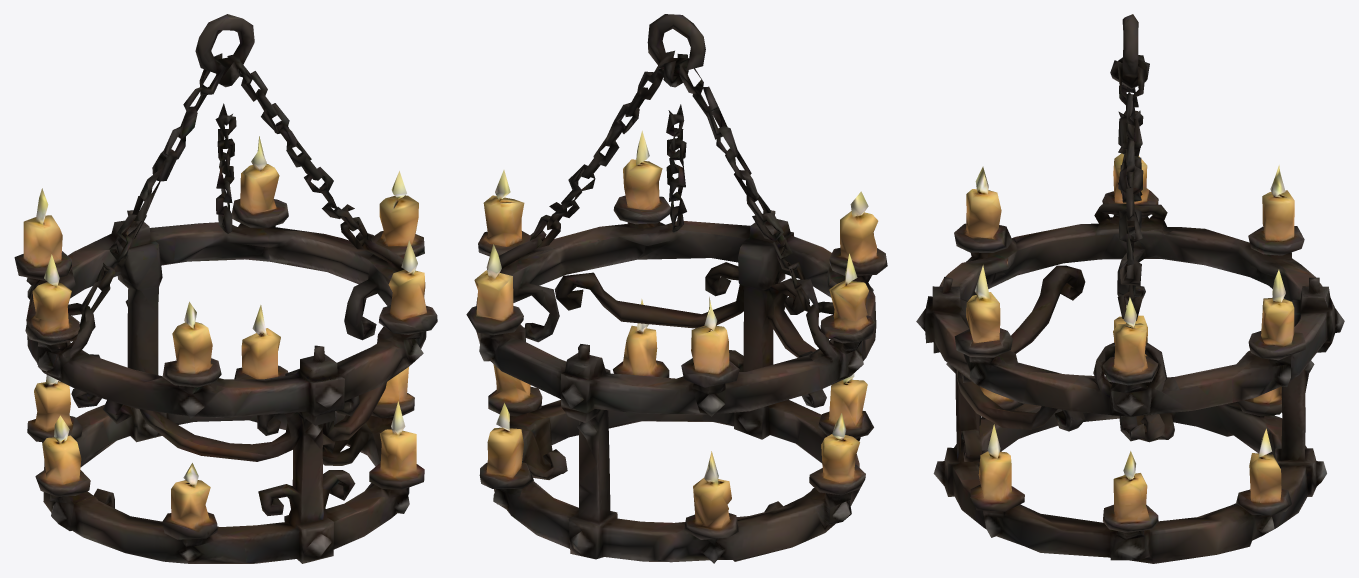
File: chandelier.glb
3 views of the same model, side by side, from view 1: azimuth 30°, elevation 25°; view 2: azimuth 150°, elevation 25°; view 3: azimuth 270°, elevation 25° (orthographic).
Visible parts, largest first — view 1: chandelier; view 2: chandelier; view 3: chandelier.
Part boxes in pixels (x1,y1,x2,y2): chandelier: (14, 14, 437, 563); chandelier: (466, 14, 887, 563); chandelier: (916, 14, 1344, 563).
Bounding box in the file's own units: 2.13 × 2.5 × 2.04.
Materials: 1 (1 with a texture image).
